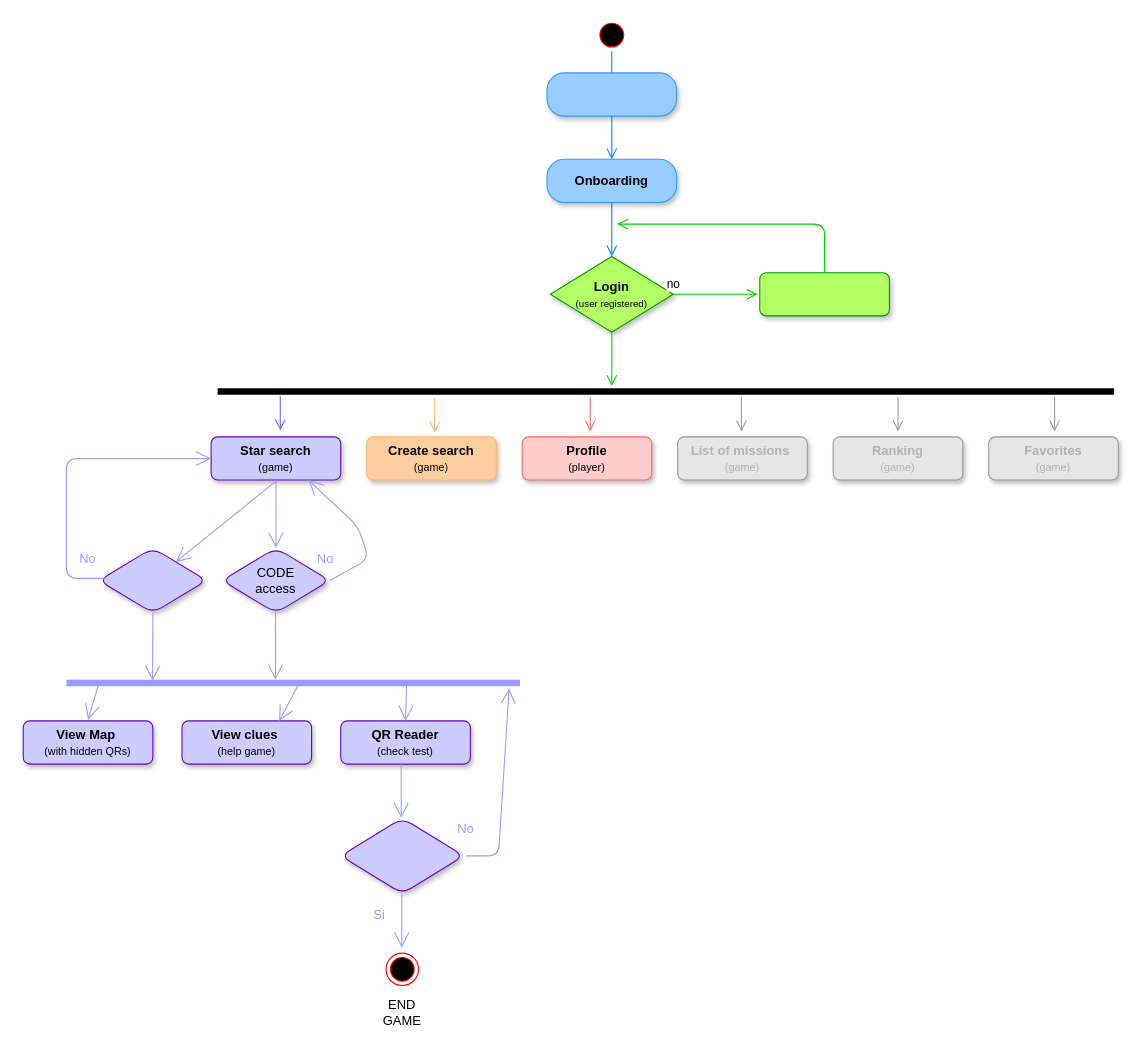
Some shapes in this 1144 by 1050 pixel diagram are drawn without their labels. Here are the shapes that lost their labels. From the top down, the centre of each, then its label:
point 612,96: Preloader
point 825,295: Register
point 153,581: QR access
point 402,857: All test checked
